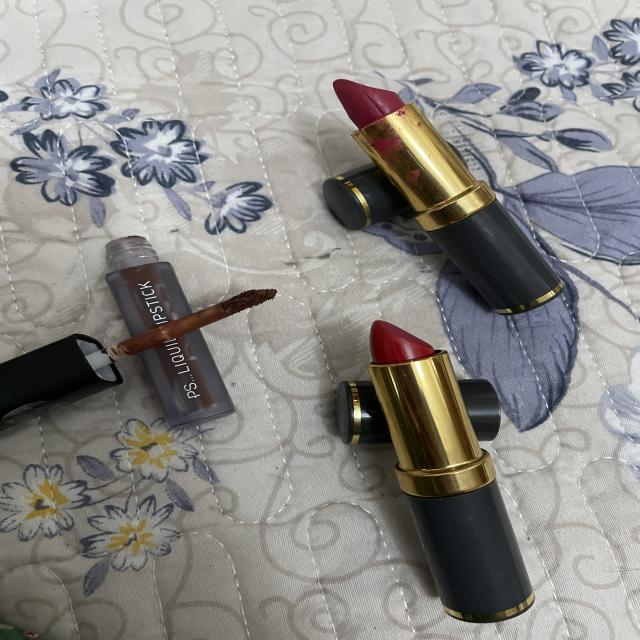lip gloss: (88, 208, 269, 458)
lip stick: (314, 70, 633, 322), (337, 313, 572, 633)
